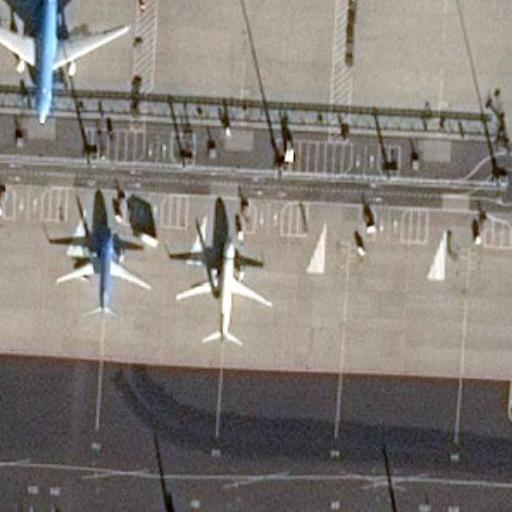Aircraft: (0, 0, 130, 122), (176, 233, 271, 348), (54, 217, 150, 316)
